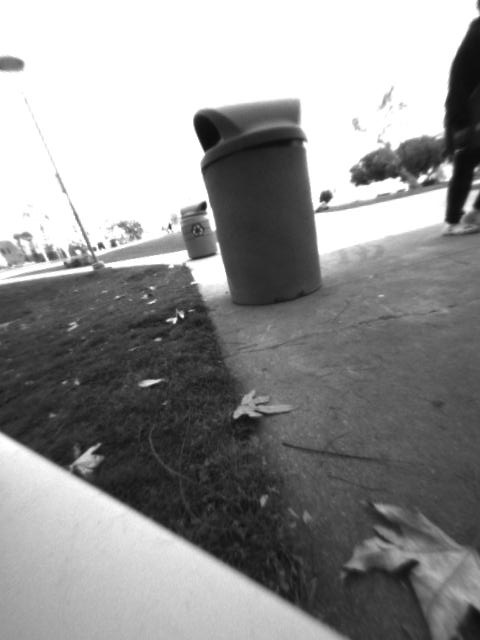trashcan: (186, 94, 337, 310)
